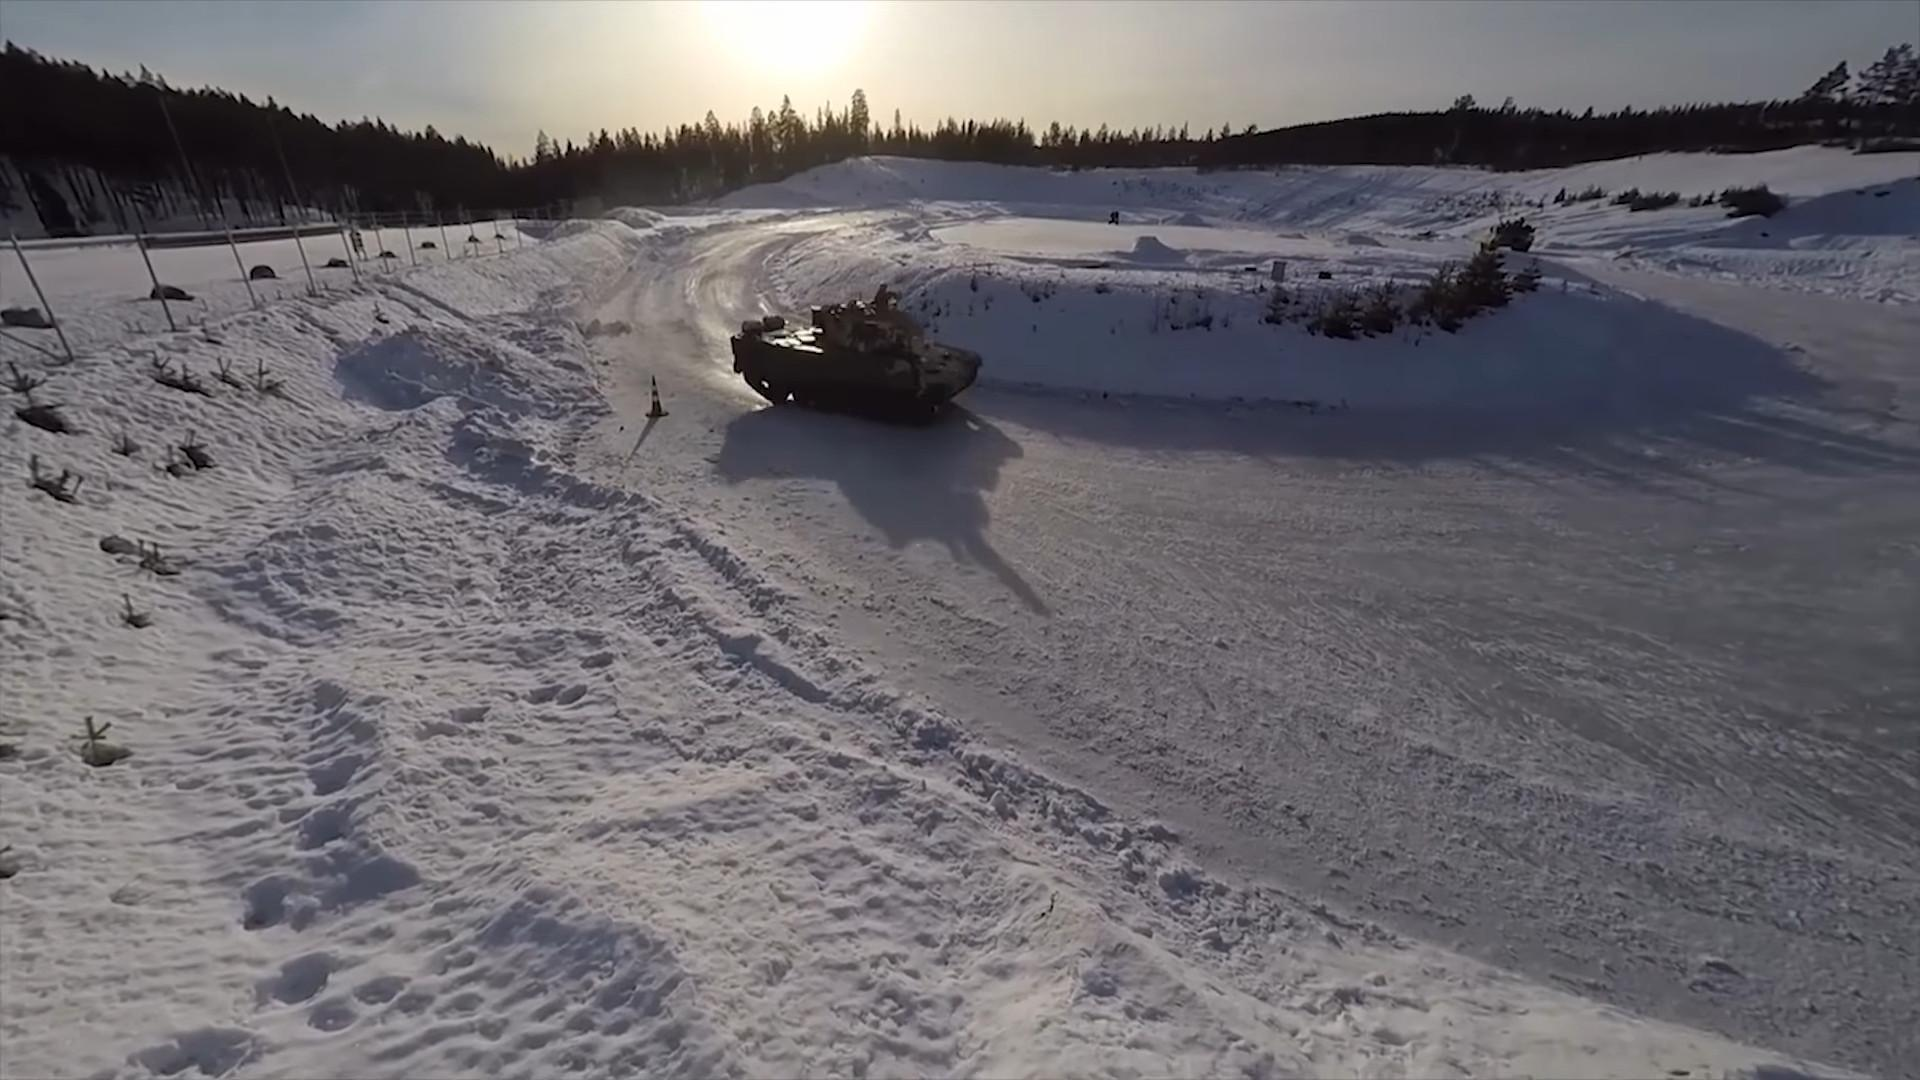tank: (729, 299, 982, 426)
